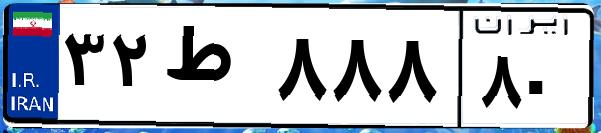0: (525, 38, 570, 115)
2: (110, 28, 158, 98)
3: (57, 26, 110, 100)
8: (270, 28, 330, 110), (385, 28, 445, 110), (330, 28, 385, 110), (475, 38, 525, 113)
ط: (158, 20, 270, 120)
